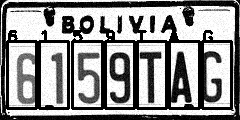1: (39, 41, 68, 108)
5: (72, 41, 102, 108)
6: (7, 41, 36, 108)
9: (105, 41, 134, 108)
A: (169, 41, 199, 108)
G: (202, 41, 231, 108)
T: (137, 41, 166, 108)
